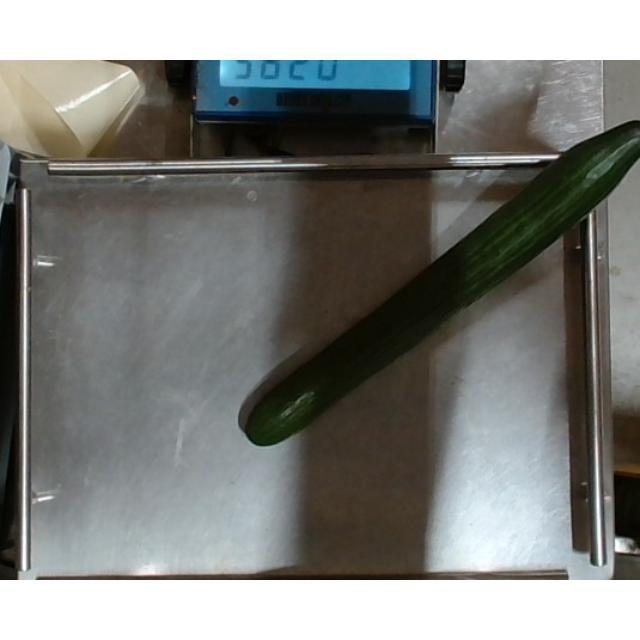cucumber: (244, 119, 640, 451)
